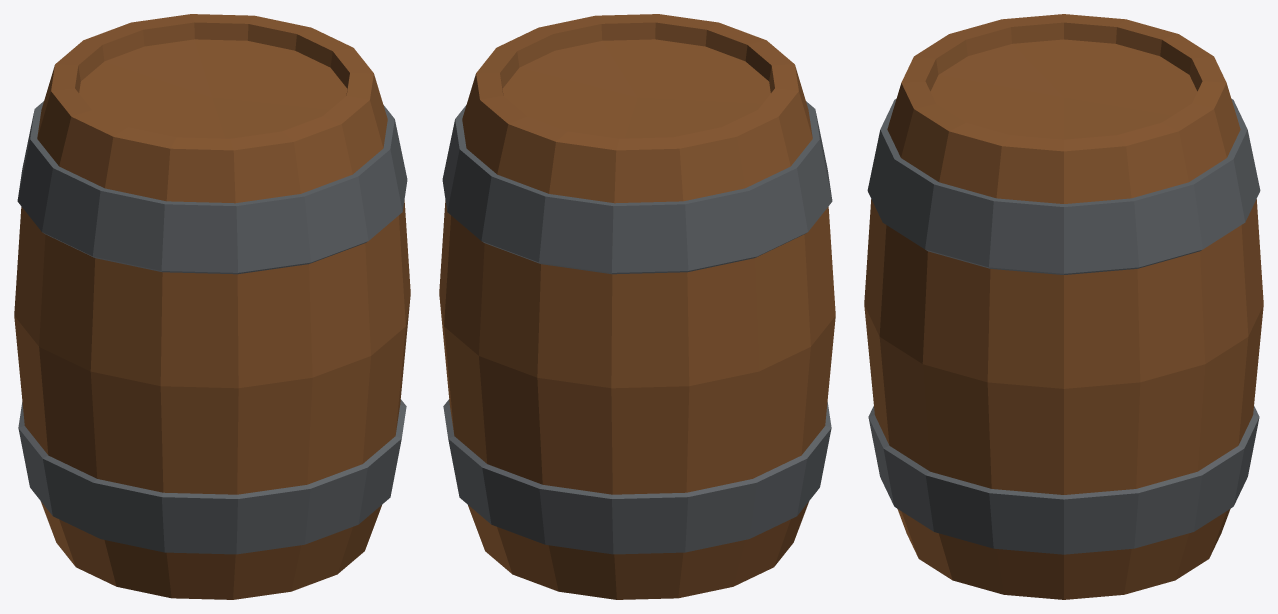
File: Barrel.fbx
3 renders of one model, left to right at view 1: azimuth 30°, elevation 25°; view 2: azimuth 150°, elevation 25°; view 3: azimuth 270°, elevation 25°, orthographic.
Parts seen in each view (by area): view 1: Barrel.002_Global_Wood_0.003, Barrel.002_Global_Wood_0.004, Barrel.002_Global_Wood_0.018, Barrel.002_Global_Wood_0.005, Barrel.002_Global_Wood_0.001, Barrel.002_Global_Wood_0.017, Barrel.002_Global_Wood_0.006, Barrel.002_Global_Wood_0.016, Barrel.002_Global_Wood_0.007, Barrel.002_Global_Wood_0.015, Barrel.002_Global_Wood_0.008, Barrel.002_Global_Wood_0.014 (+5 smaller); view 2: Barrel.002_Global_Wood_0.014, Barrel.002_Global_Wood_0.013, Barrel.002_Global_Wood_0.015, Barrel.002_Global_Wood_0.012, Barrel.002_Global_Wood_0.001, Barrel.002_Global_Wood_0.016, Barrel.002_Global_Wood_0.011, Barrel.002_Global_Wood_0.017, Barrel.002_Global_Wood_0.010, Barrel.002_Global_Wood_0.018, Barrel.002_Global_Wood_0.009, Barrel.002_Global_Wood_0.003 (+5 smaller); view 3: Barrel.002_Global_Wood_0.008, Barrel.002_Global_Wood_0.009, Barrel.002_Global_Wood_0.007, Barrel.002_Global_Wood_0.010, Barrel.002_Global_Wood_0.001, Barrel.002_Global_Wood_0.006, Barrel.002_Global_Wood_0.011, Barrel.002_Global_Wood_0.005, Barrel.002_Global_Wood_0.012, Barrel.002_Global_Wood_0.004, Barrel.002_Global_Wood_0.013, Barrel.002_Global_Wood_0.003 (+5 smaller).
Boxes of the visible parts, x1,y1,x2,y2 form: Barrel.002_Global_Wood_0.003: (160,137,238,599); Barrel.002_Global_Wood_0.004: (230,131,312,599); Barrel.002_Global_Wood_0.018: (90,127,176,598); Barrel.002_Global_Wood_0.005: (282,116,370,591); Barrel.002_Global_Wood_0.001: (75,22,349,138); Barrel.002_Global_Wood_0.017: (39,110,127,586); Barrel.002_Global_Wood_0.006: (323,96,405,573); Barrel.002_Global_Wood_0.016: (14,88,91,566); Barrel.002_Global_Wood_0.007: (346,73,410,438); Barrel.002_Global_Wood_0.015: (17,64,78,427); Barrel.002_Global_Wood_0.008: (333,48,406,406); Barrel.002_Global_Wood_0.014: (35,40,101,109); Barrel.002_Global_Wood_0.014: (611,137,689,599); Barrel.002_Global_Wood_0.013: (537,131,619,599); Barrel.002_Global_Wood_0.015: (673,127,759,598); Barrel.002_Global_Wood_0.012: (479,116,567,591); Barrel.002_Global_Wood_0.001: (500,22,774,138); Barrel.002_Global_Wood_0.016: (722,110,810,586); Barrel.002_Global_Wood_0.011: (444,96,526,573); Barrel.002_Global_Wood_0.017: (758,88,835,566); Barrel.002_Global_Wood_0.010: (439,73,503,438); Barrel.002_Global_Wood_0.018: (771,64,832,427); Barrel.002_Global_Wood_0.009: (443,48,516,406); Barrel.002_Global_Wood_0.003: (748,40,814,109); Barrel.002_Global_Wood_0.008: (987,135,1063,599); Barrel.002_Global_Wood_0.009: (1064,135,1140,599); Barrel.002_Global_Wood_0.007: (922,122,1010,594); Barrel.002_Global_Wood_0.010: (1117,122,1205,594); Barrel.002_Global_Wood_0.001: (925,22,1202,139); Barrel.002_Global_Wood_0.006: (879,103,965,580); Barrel.002_Global_Wood_0.011: (1162,103,1248,580); Barrel.002_Global_Wood_0.005: (864,81,935,556); Barrel.002_Global_Wood_0.012: (1192,81,1263,556); Barrel.002_Global_Wood_0.004: (868,56,935,416); Barrel.002_Global_Wood_0.013: (1192,56,1259,416); Barrel.002_Global_Wood_0.003: (894,34,965,99).
Size of the model in its own units: 1272 by 1588 by 1272.
